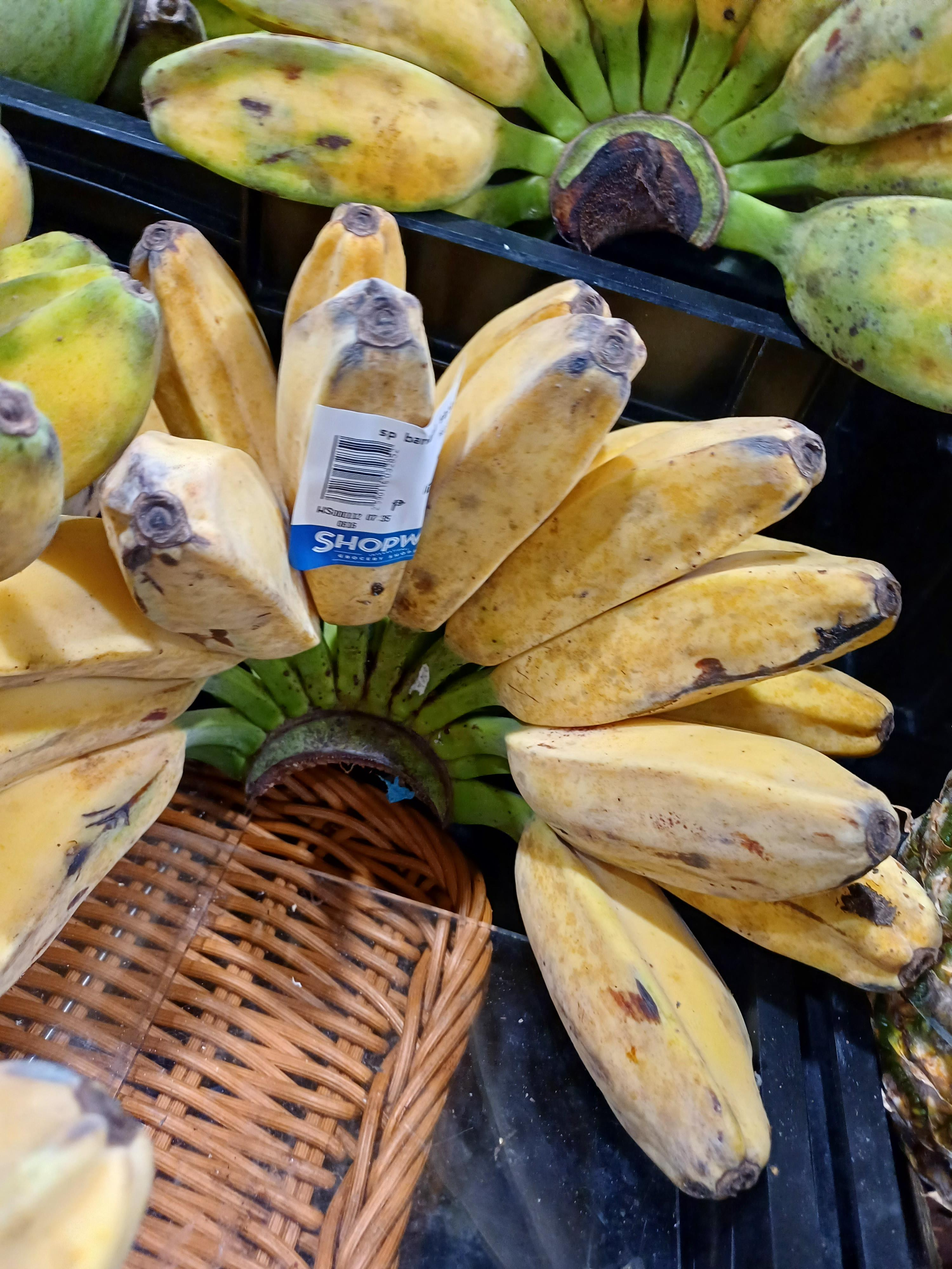ripe: (0, 204, 942, 1199)
underripe: (142, 0, 952, 412), (0, 121, 168, 590)
